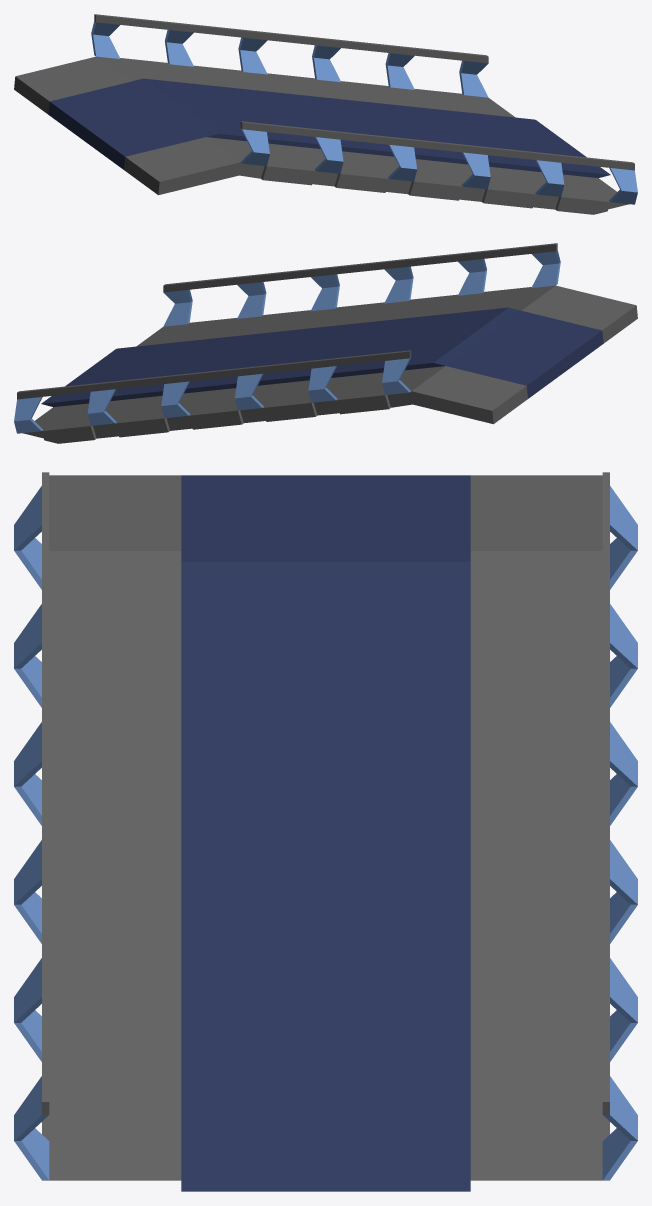
The model's file is ramp.fbx.
3 renders of one model, top to bottom at view 1: azimuth 30°, elevation 25°; view 2: azimuth 150°, elevation 25°; view 3: azimuth 270°, elevation 25°, orthographic. The views are drawn at different scales.
Parts seen in each view (by area): view 1: Plane; view 2: Plane; view 3: Plane.
Boxes of the visible parts, bbox=[...] form: Plane: bbox=[14, 14, 637, 214]; Plane: bbox=[14, 243, 637, 443]; Plane: bbox=[14, 472, 637, 1191].
Bounding box in the file's own units: 745 × 260 × 431.
